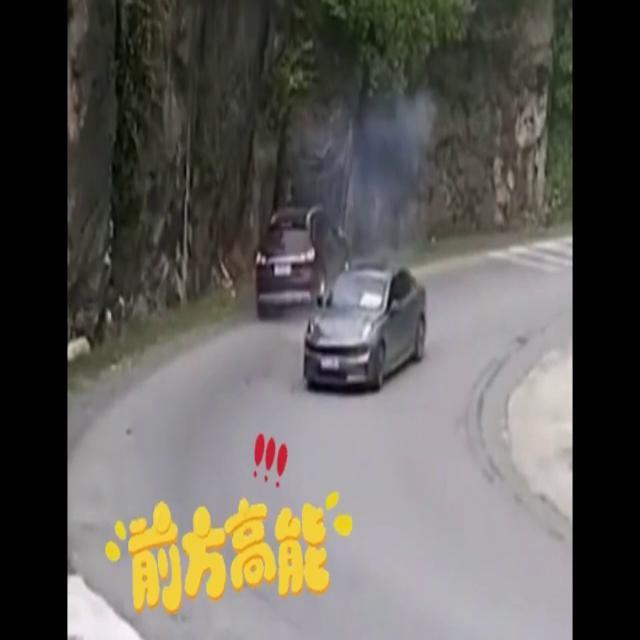normal: (304, 247, 436, 427)
single accident: (231, 150, 347, 287)
